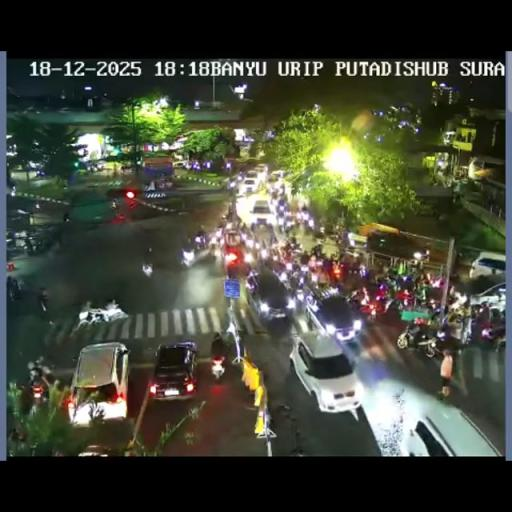Car: (290, 330, 364, 414), (396, 398, 501, 454), (68, 342, 130, 426), (302, 288, 362, 346), (149, 342, 199, 400), (244, 266, 291, 324), (468, 281, 506, 310), (469, 253, 505, 281), (250, 219, 276, 252), (248, 198, 274, 223), (223, 226, 242, 250), (241, 176, 259, 194), (253, 163, 268, 177), (172, 159, 190, 169), (269, 170, 285, 180)
Motorcycle: (396, 319, 442, 355), (350, 286, 387, 321), (382, 270, 416, 302), (476, 314, 506, 348), (75, 307, 104, 331), (24, 233, 54, 254), (8, 427, 28, 456), (29, 372, 47, 404), (102, 298, 126, 322), (180, 236, 198, 266), (6, 234, 28, 258), (330, 224, 350, 250), (345, 258, 366, 282), (274, 198, 290, 228), (448, 290, 468, 313), (447, 314, 464, 341), (414, 281, 431, 305), (140, 249, 154, 278), (210, 352, 225, 379), (232, 257, 250, 279), (284, 237, 302, 257), (37, 286, 49, 316), (8, 279, 22, 301), (426, 274, 445, 290), (298, 208, 312, 228), (193, 230, 208, 248), (208, 233, 219, 254), (268, 182, 281, 199), (294, 284, 306, 302), (331, 262, 342, 280), (221, 176, 234, 190), (312, 243, 322, 258), (259, 247, 269, 259), (220, 211, 229, 221), (110, 199, 117, 210)
